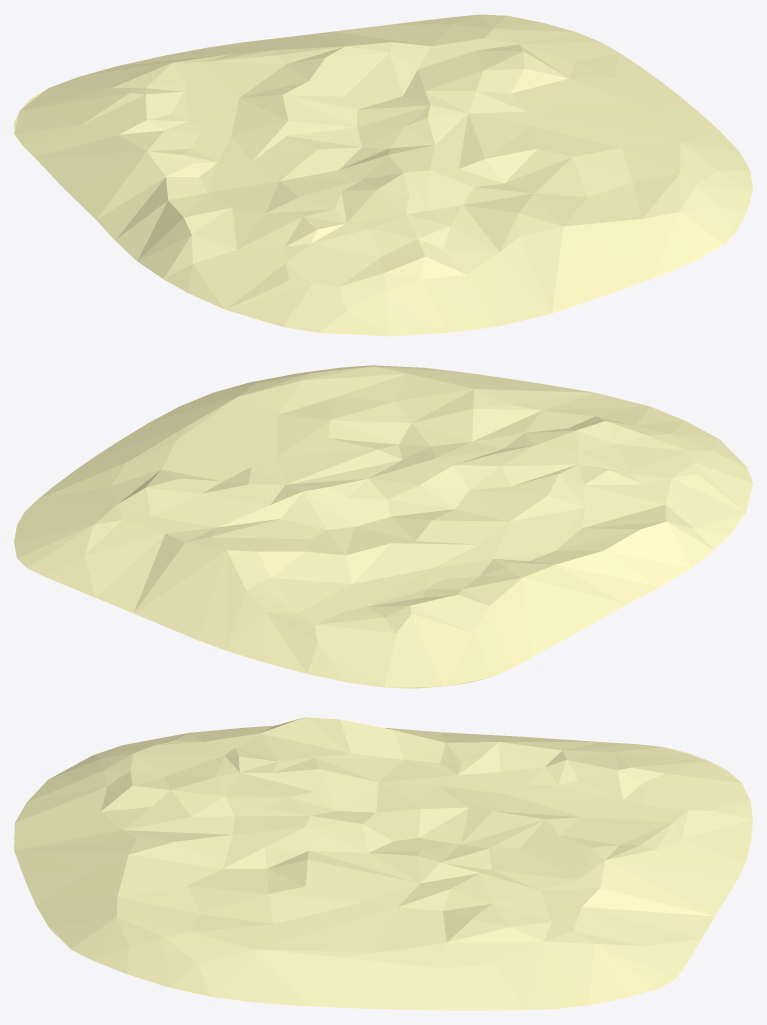
Rendered from Hill_014.glb.
The picture shows the model from 3 angles, top to bottom: view 1: azimuth 30°, elevation 25°; view 2: azimuth 150°, elevation 25°; view 3: azimuth 270°, elevation 25°; orthographic projection. The views are drawn at different scales.
Visible parts, largest first — view 1: Hill_014; view 2: Hill_014; view 3: Hill_014.
Boxes of the visible parts, x1,y1,x2,y2 form: Hill_014: (14, 14, 752, 336); Hill_014: (14, 365, 752, 688); Hill_014: (14, 717, 752, 1010).
Size of the model in its own units: 2.4 by 0.1484 by 2.63.
Materials: 1 (1 with a texture image).
